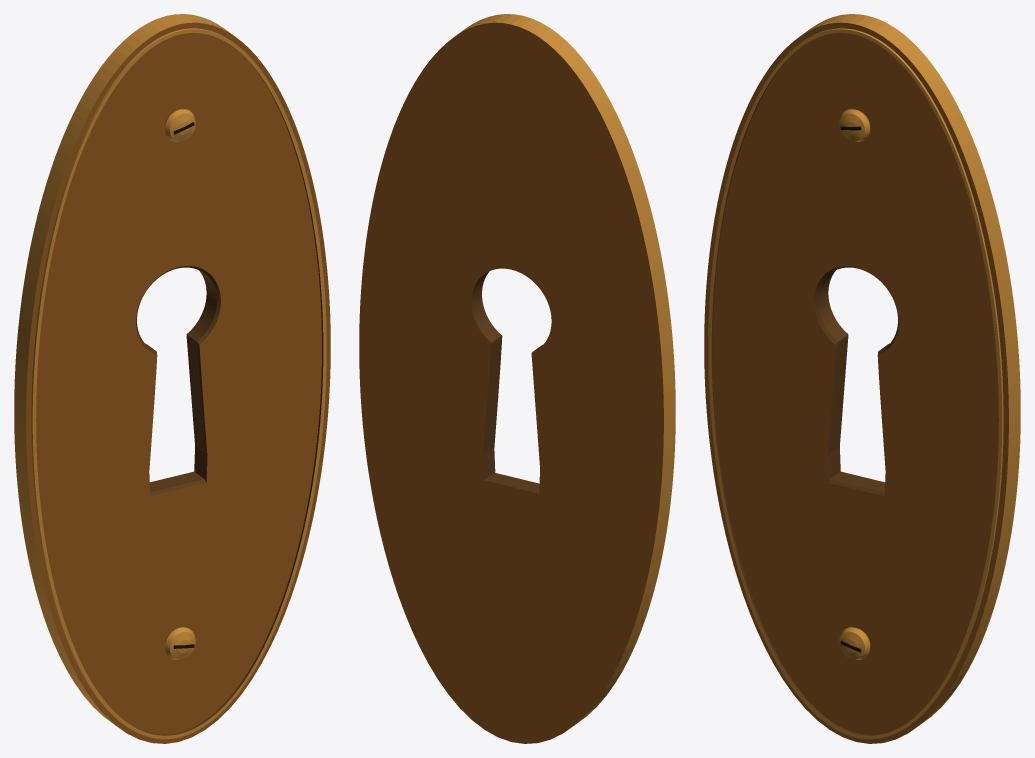
Rendered from original_oval_brass_keyhole_plate.obj.
3 views of the same model, side by side, from view 1: azimuth 30°, elevation 25°; view 2: azimuth 150°, elevation 25°; view 3: azimuth 330°, elevation 25° (orthographic).
Visible parts, largest first — view 1: Plate_through_hole, Raised_border, Lower_mounting_screw, Upper_mounting_screw; view 2: Plate_through_hole; view 3: Plate_through_hole, Raised_border, Lower_mounting_screw, Upper_mounting_screw.
Part boxes in pixels (bbox=[...]): Plate_through_hole: bbox=[14, 14, 330, 743]; Raised_border: bbox=[31, 28, 326, 739]; Lower_mounting_screw: bbox=[164, 627, 195, 659]; Upper_mounting_screw: bbox=[164, 109, 195, 141]; Plate_through_hole: bbox=[359, 14, 675, 743]; Plate_through_hole: bbox=[704, 14, 1020, 743]; Raised_border: bbox=[708, 28, 1003, 739]; Lower_mounting_screw: bbox=[839, 627, 870, 659]; Upper_mounting_screw: bbox=[839, 109, 870, 141].
Bounding box in the file's own units: 0.08 × 0.18 × 0.00812.
